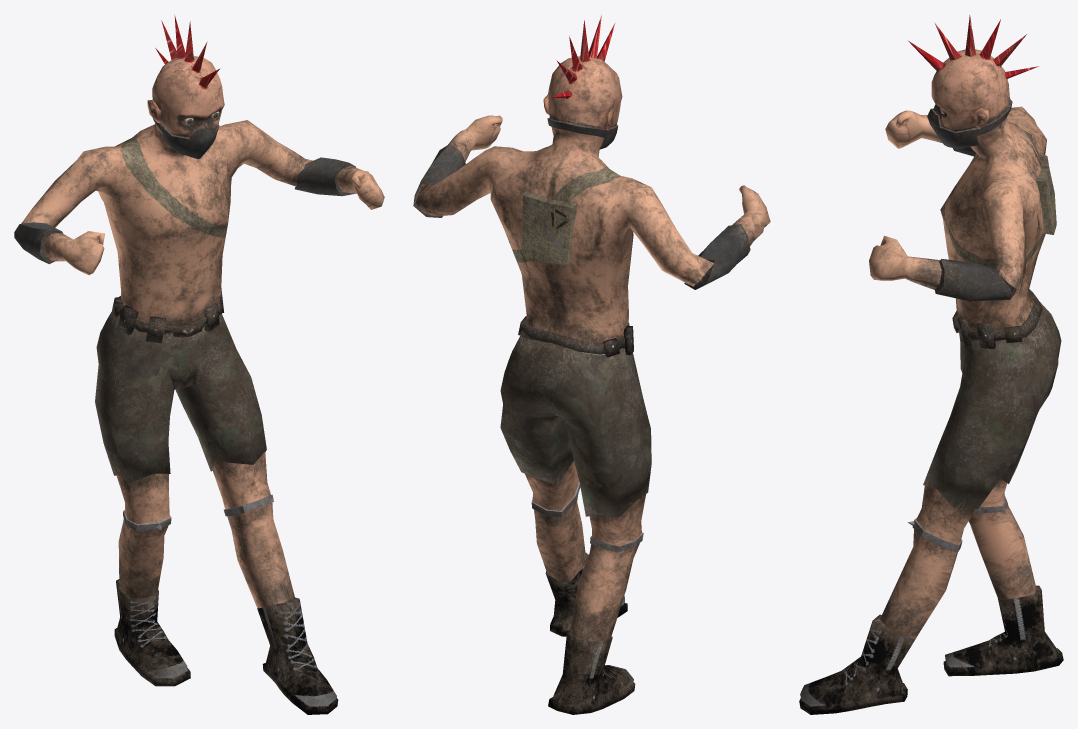
File: Anim_ataque_d3_npc2.0049.obj
The picture shows the model from 3 angles, left to right: view 1: azimuth 30°, elevation 25°; view 2: azimuth 150°, elevation 25°; view 3: azimuth 270°, elevation 25°; orthographic projection. The views are drawn at different scales.
Parts seen in each view (by area): view 1: polySurface1; view 2: polySurface1; view 3: polySurface1.
Boxes of the visible parts, x1=… form: polySurface1: x1=14, y1=15, x2=384, y2=714; polySurface1: x1=413, y1=14, x2=770, y2=714; polySurface1: x1=799, y1=15, x2=1063, y2=714.
Bounding box in the file's own units: 5.06 × 10.04 × 3.59.
